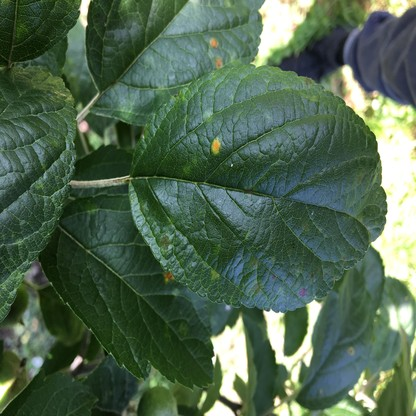rust: (211, 137, 222, 155), (163, 269, 175, 282), (214, 56, 222, 68), (210, 38, 217, 47), (347, 347, 354, 356), (299, 288, 306, 296)
